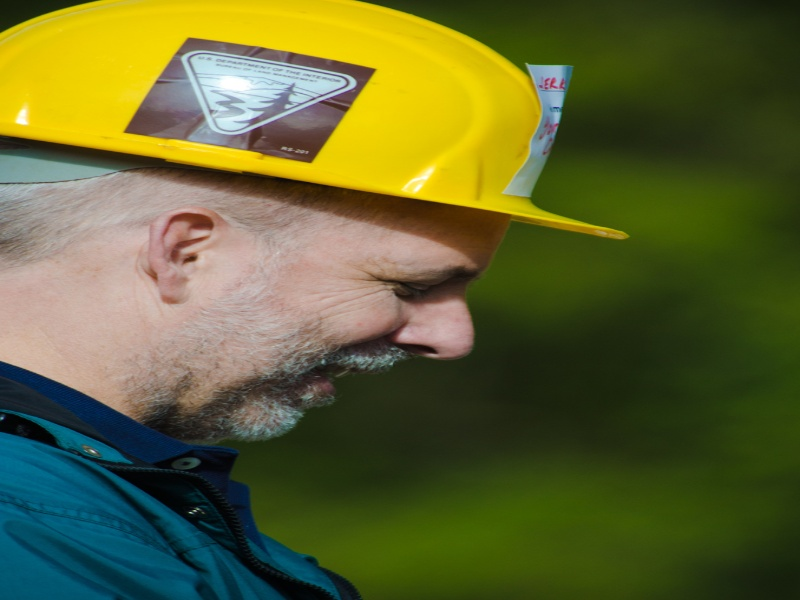Baret: (1, 2, 538, 224)
